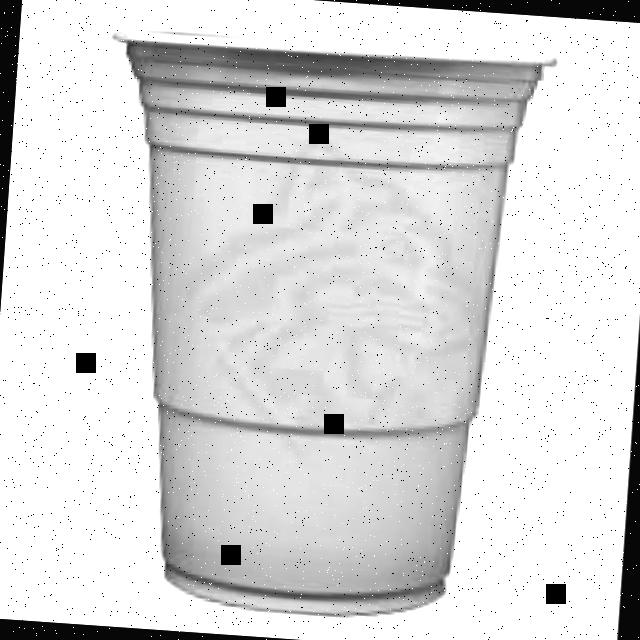plastic_cup: (72, 21, 560, 629)
